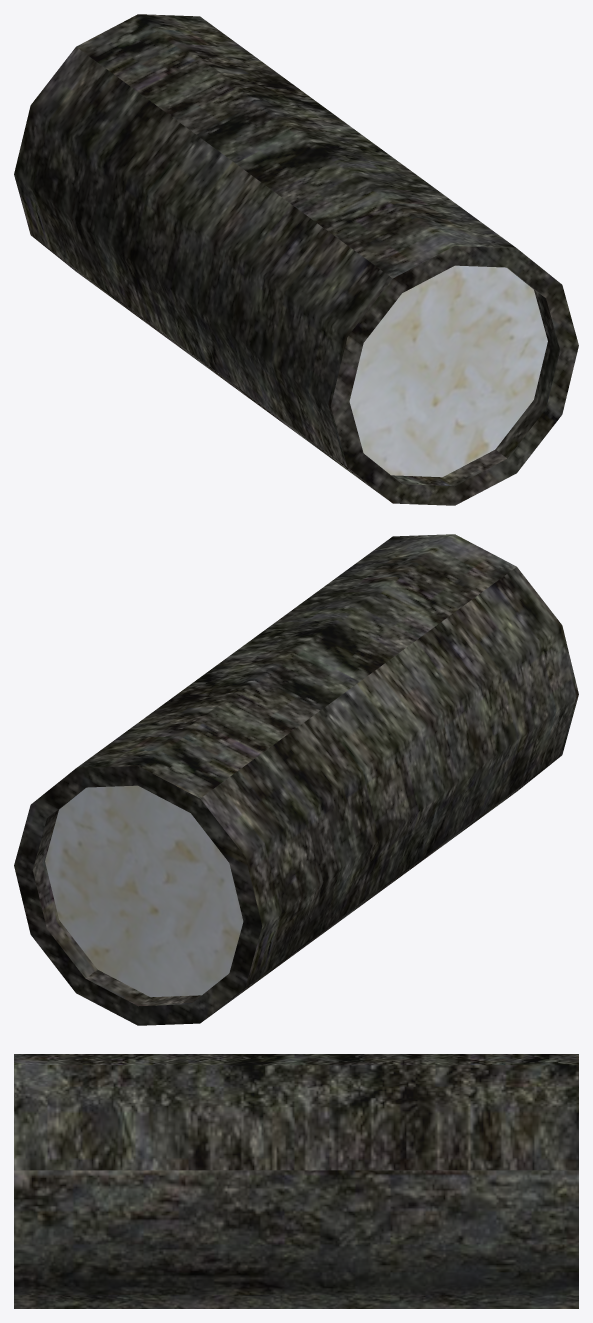
The model's file is Gimbap.fbx.
3 renders of one model, top to bottom at view 1: azimuth 30°, elevation 25°; view 2: azimuth 150°, elevation 25°; view 3: azimuth 270°, elevation 25°, orthographic. The views are drawn at different scales.
Parts seen in each view (by area): view 1: Object32377.123; view 2: Object32377.123; view 3: Object32377.123.
Part boxes in pixels (x1=…): Object32377.123: x1=14, y1=14, x2=578, y2=505; Object32377.123: x1=14, y1=534, x2=578, y2=1025; Object32377.123: x1=14, y1=1054, x2=578, y2=1308.
Bounding box in the file's own units: 5.73 × 5.73 × 12.66.
